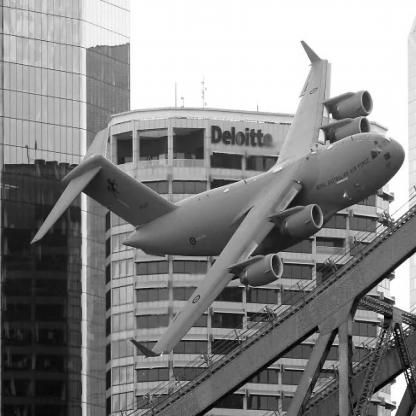C17: (31, 41, 406, 360)
